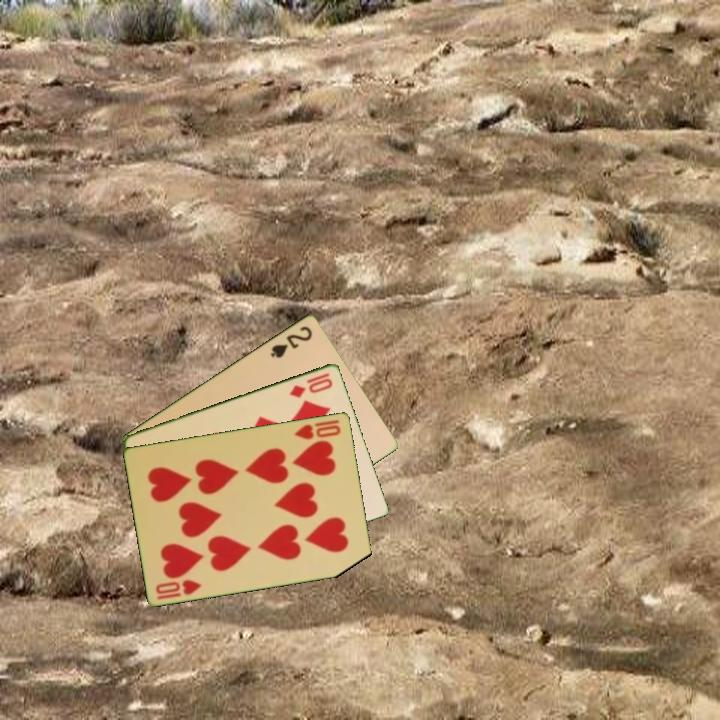10d: (286, 369, 336, 400)
10h: (291, 416, 344, 442), (152, 576, 205, 602)
2s: (267, 322, 315, 361)
